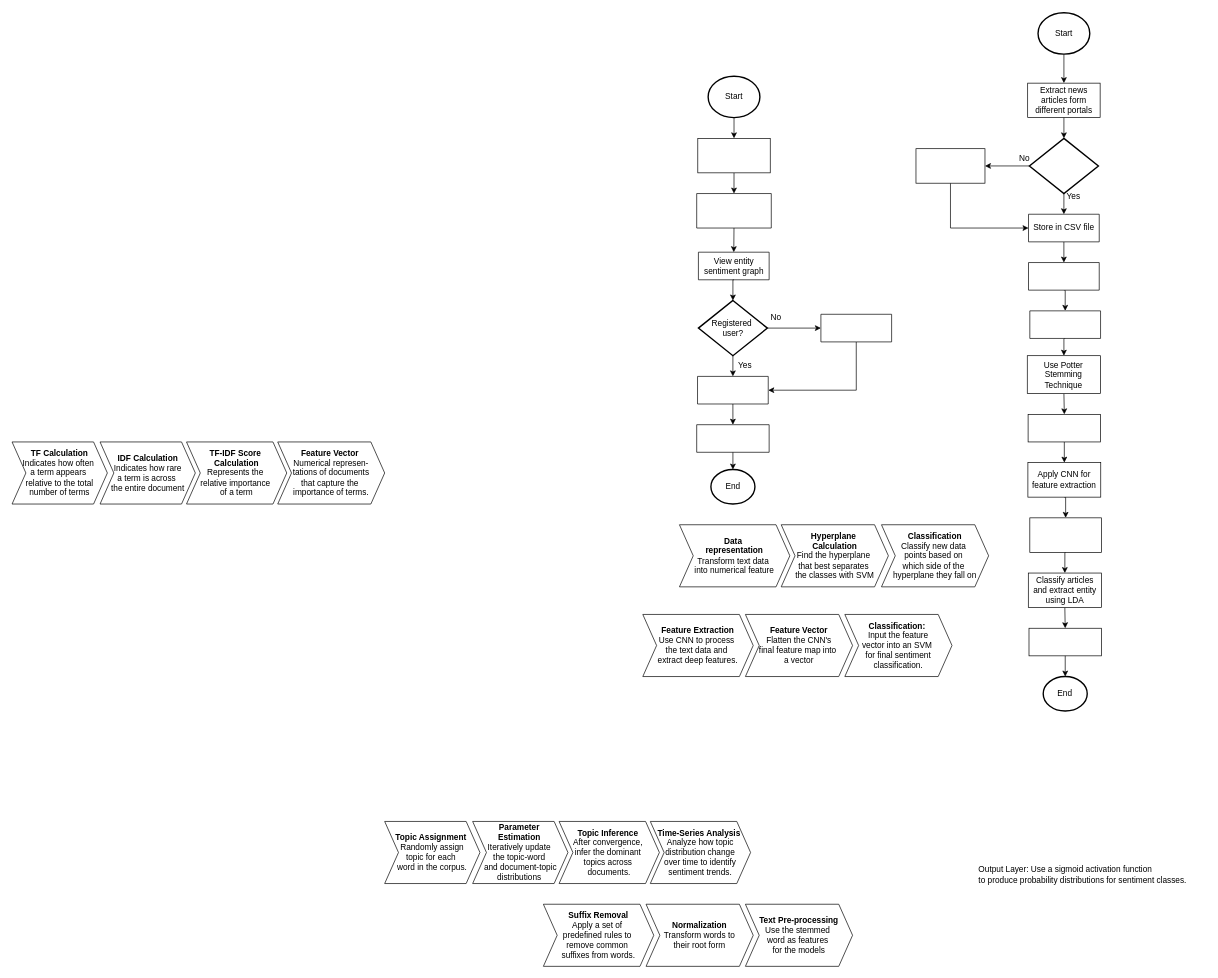
This 1218x978 diagram has some shape labels left out. Here are the shapes that lost their labels. From the top down, the centre of each, then its label:
(x=733, y=155): View classified news with translation
(x=950, y=165): Translate from Nepali to English
(x=1063, y=165): Language is English?
(x=733, y=210): Filter news based on entity and sentiment
(x=1063, y=276): Read CSV file
(x=856, y=328): Sign Up
(x=1065, y=324): Remove Stop words
(x=732, y=390): Login
(x=732, y=438): Save news posts
(x=1064, y=428): Extract Features
(x=1065, y=534): Apply SVM for article classification
(x=1064, y=642): Visualize entity trends over time
